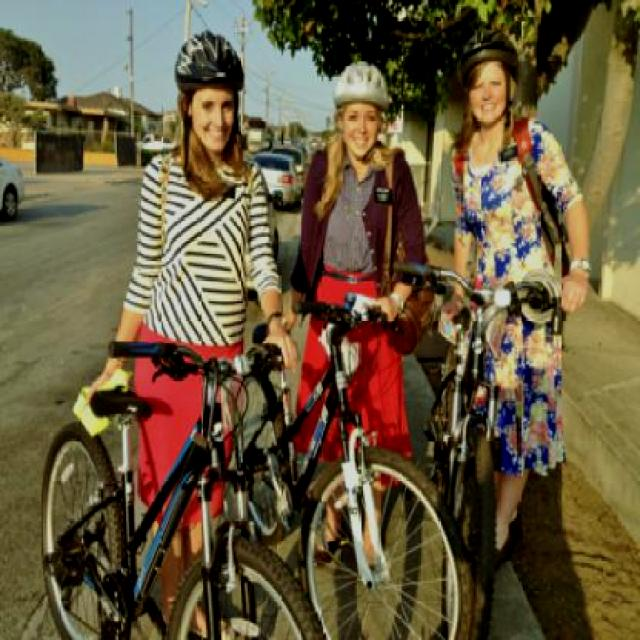With Helmet: (169, 26, 249, 103), (328, 54, 392, 124), (451, 28, 523, 89)
